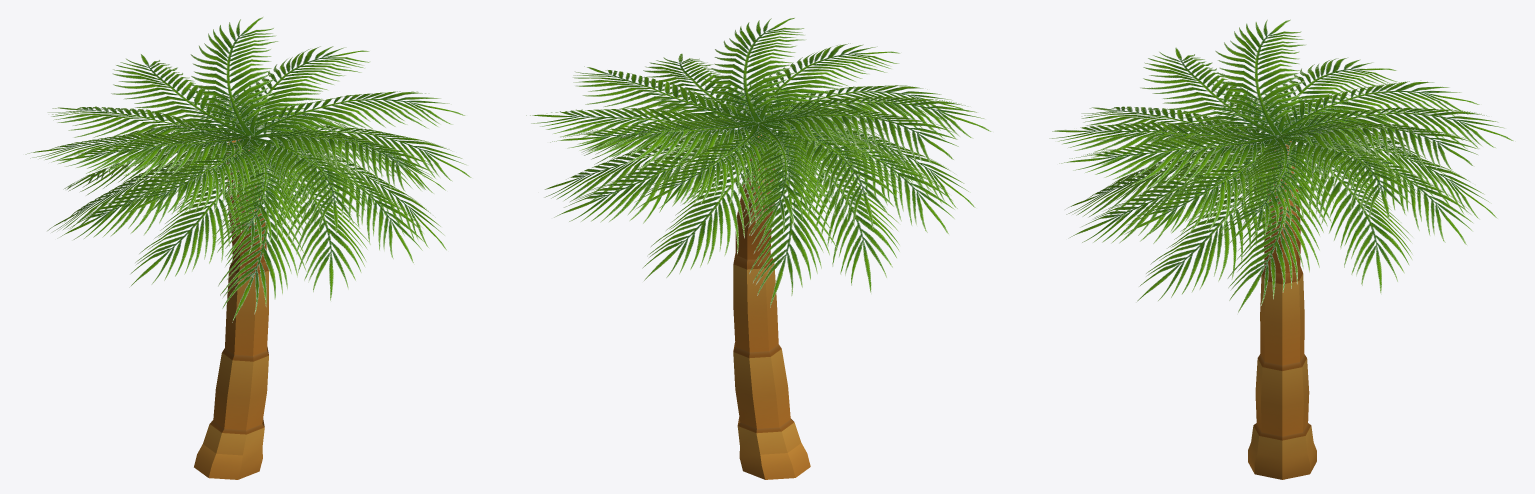
The model's file is PalmTree.fbx.
The picture shows the model from 3 angles, left to right: view 1: azimuth 30°, elevation 25°; view 2: azimuth 150°, elevation 25°; view 3: azimuth 270°, elevation 25°; orthographic projection. The views are drawn at different scales.
Parts seen in each view (by area): view 1: polySurface25, polySurface5, polySurface22, polySurface11, polySurface12, polySurface1, polySurface13, polySurface24, polySurface2, polySurface4, polySurface8, polySurface3 (+10 smaller); view 2: polySurface25, polySurface17, polySurface23, polySurface21, polySurface7, polySurface6, polySurface5, polySurface3, polySurface4, polySurface19, polySurface18, polySurface24 (+9 smaller); view 3: polySurface25, polySurface3, polySurface16, polySurface21, polySurface20, polySurface22, polySurface9, polySurface15, polySurface2, polySurface8, polySurface7, polySurface4 (+9 smaller).
Part boxes in pixels (x1,y1,x2,y2): polySurface25: (194, 139, 268, 479); polySurface5: (189, 16, 278, 136); polySurface22: (251, 91, 465, 140); polySurface11: (129, 142, 274, 287); polySurface12: (218, 143, 311, 322); polySurface1: (213, 139, 309, 259); polySurface13: (254, 141, 368, 301); polySurface24: (250, 137, 374, 234); polySurface2: (121, 138, 271, 216); polySurface4: (111, 54, 248, 136); polySurface8: (223, 46, 370, 136); polySurface3: (57, 133, 249, 181); polySurface25: (733, 132, 810, 479); polySurface17: (642, 128, 784, 281); polySurface23: (738, 128, 837, 307); polySurface21: (704, 17, 806, 122); polySurface7: (735, 124, 831, 241); polySurface6: (762, 120, 901, 229); polySurface5: (550, 117, 757, 169); polySurface3: (758, 108, 958, 163); polySurface4: (634, 124, 782, 210); polySurface19: (554, 126, 752, 223); polySurface18: (767, 127, 900, 294); polySurface24: (739, 43, 901, 122); polySurface25: (1248, 141, 1316, 479); polySurface3: (1212, 19, 1306, 135); polySurface16: (1227, 142, 1333, 314); polySurface21: (1059, 132, 1276, 190); polySurface20: (1283, 140, 1413, 294); polySurface22: (1220, 138, 1333, 243); polySurface9: (1124, 139, 1292, 236); polySurface15: (1136, 143, 1293, 302); polySurface2: (1140, 47, 1276, 136); polySurface8: (1276, 136, 1418, 221); polySurface7: (1279, 80, 1481, 137); polySurface4: (1279, 107, 1515, 150).
Bounding box in the file's own units: 5.31 × 4.36 × 5.27.
